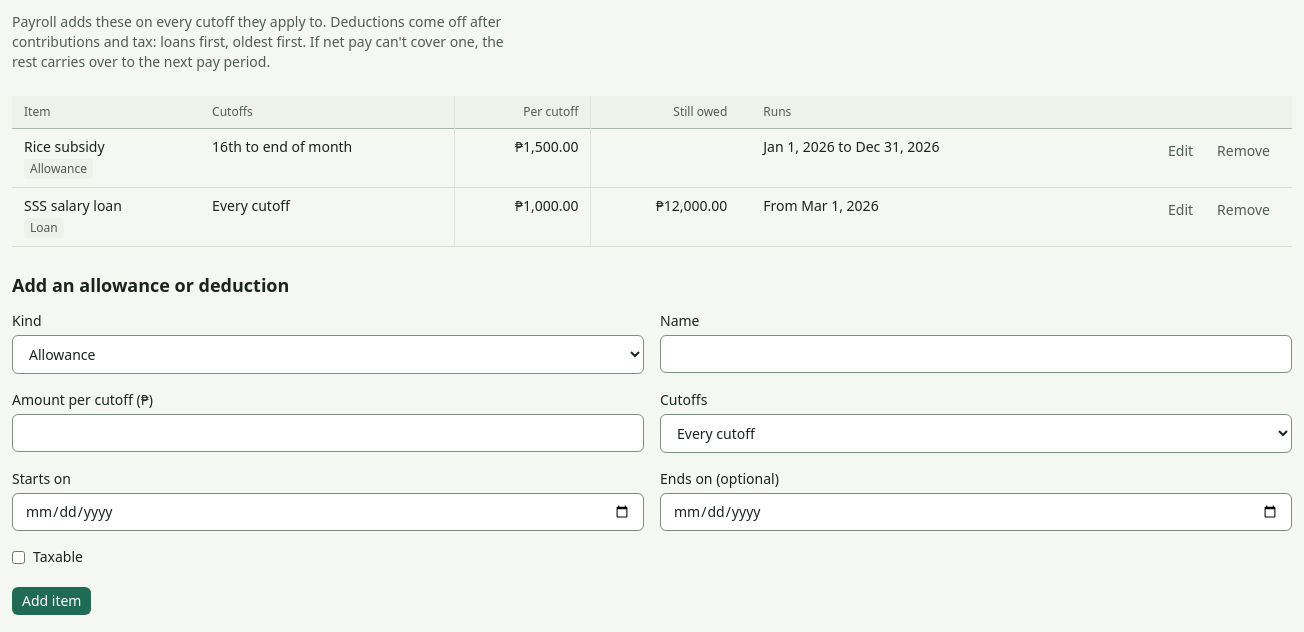
Test: PayItemsTab › removes an item after confirming
The width and height of the screenshot is (1304, 632).
Expected: the text "Rice subsidy" is shown, 24,137 -> 105,156
Click the button with aria-label "Remove Rice subsidy": x=1244, y=151 1207,137 -> 1280,165
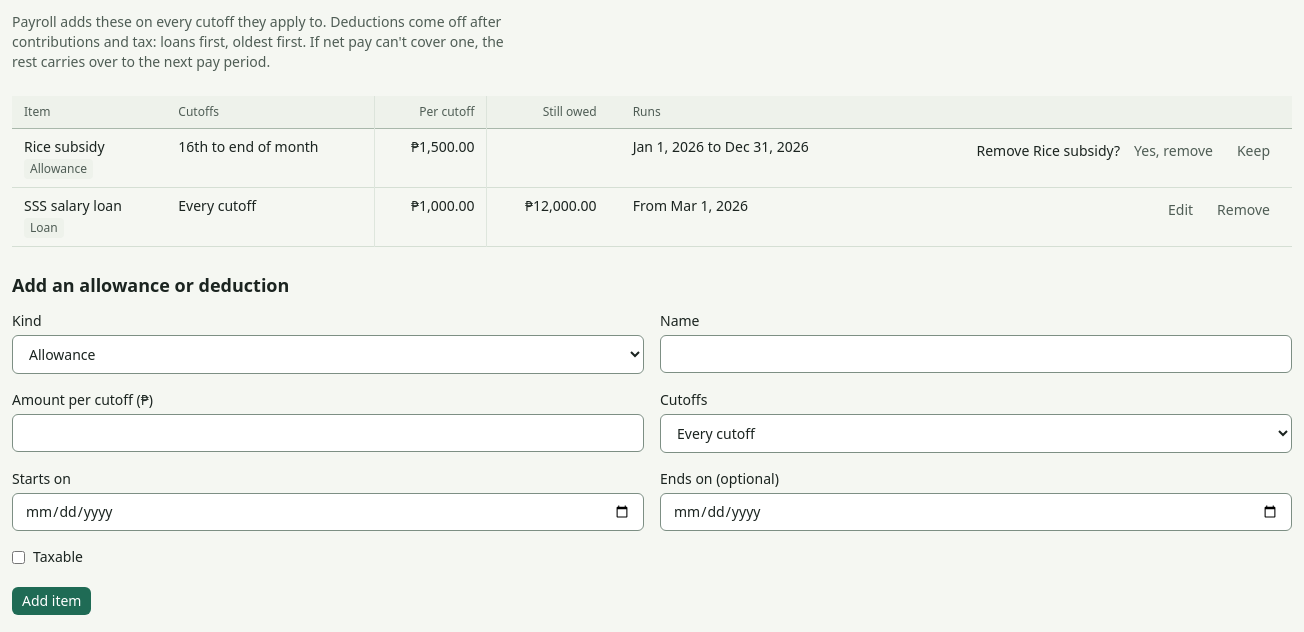
Click the button "Keep": x=1253, y=151 1227,137 -> 1280,165
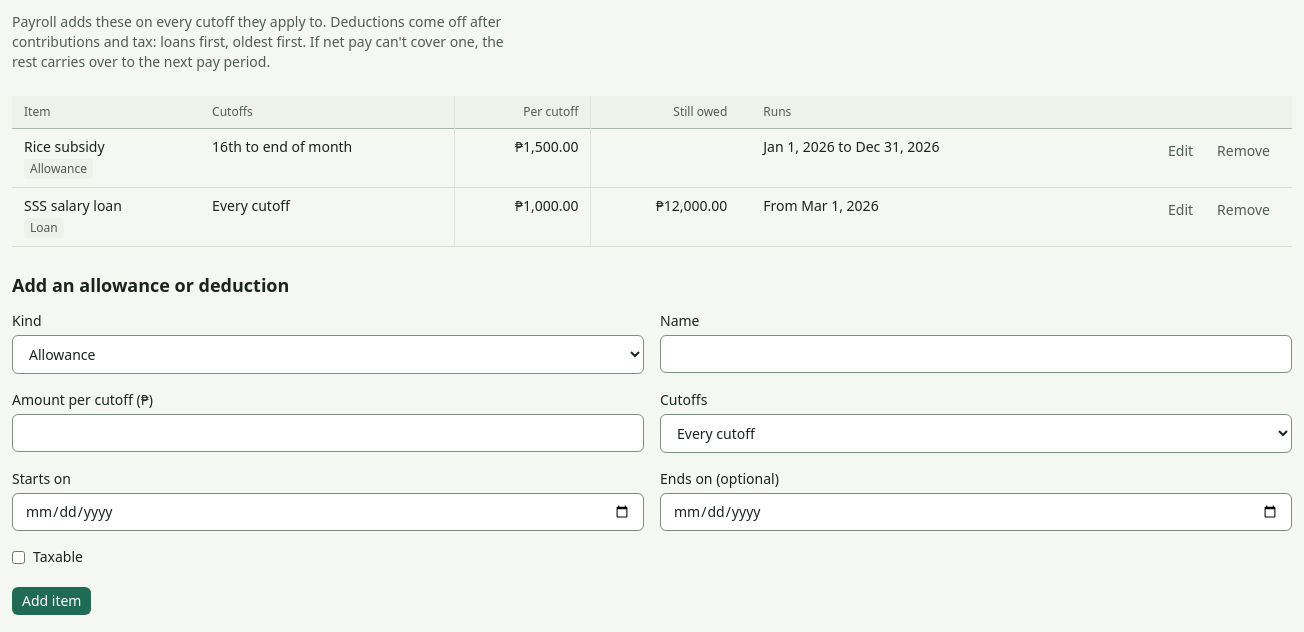
Click the button with aria-label "Remove Rice subsidy": x=1244, y=151 1207,137 -> 1280,165
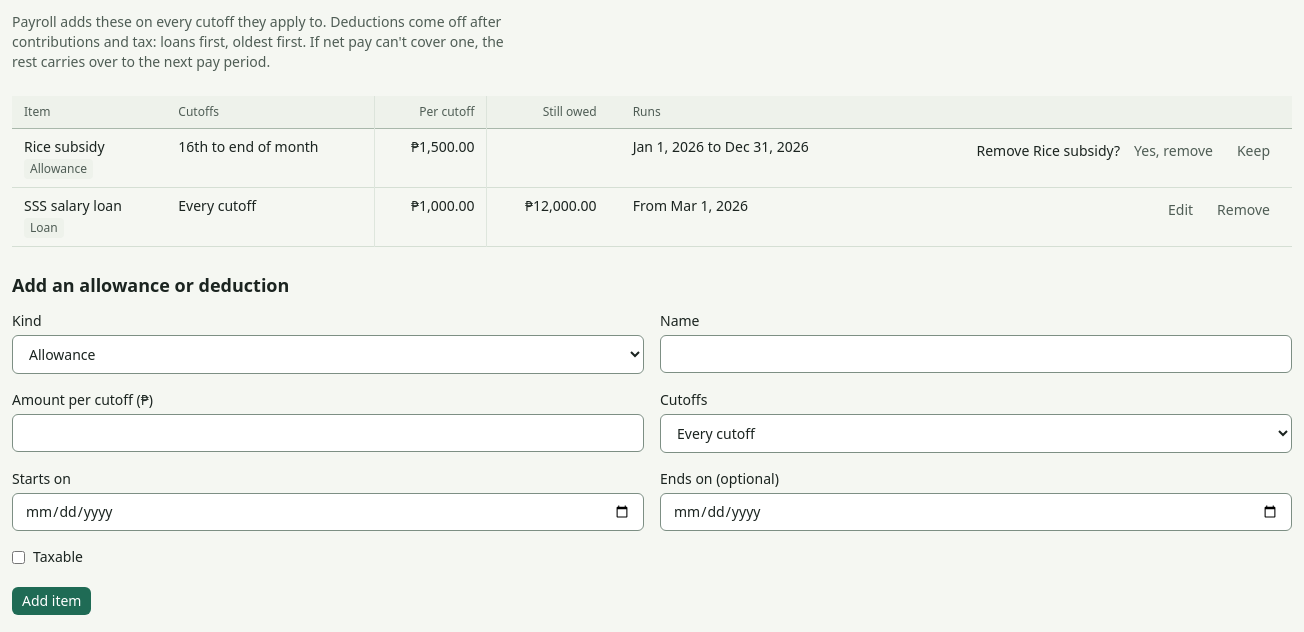
Click the button "Yes, remove": x=1173, y=151 1124,137 -> 1223,165
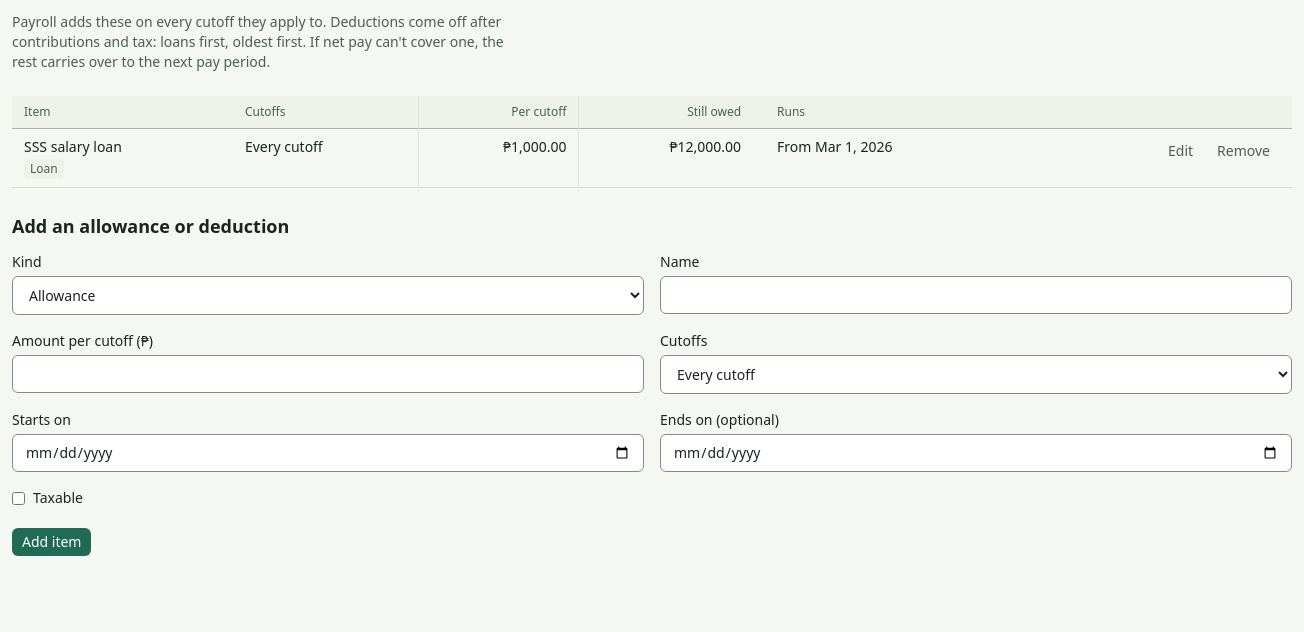
Result: the text "Rice subsidy" is gone
